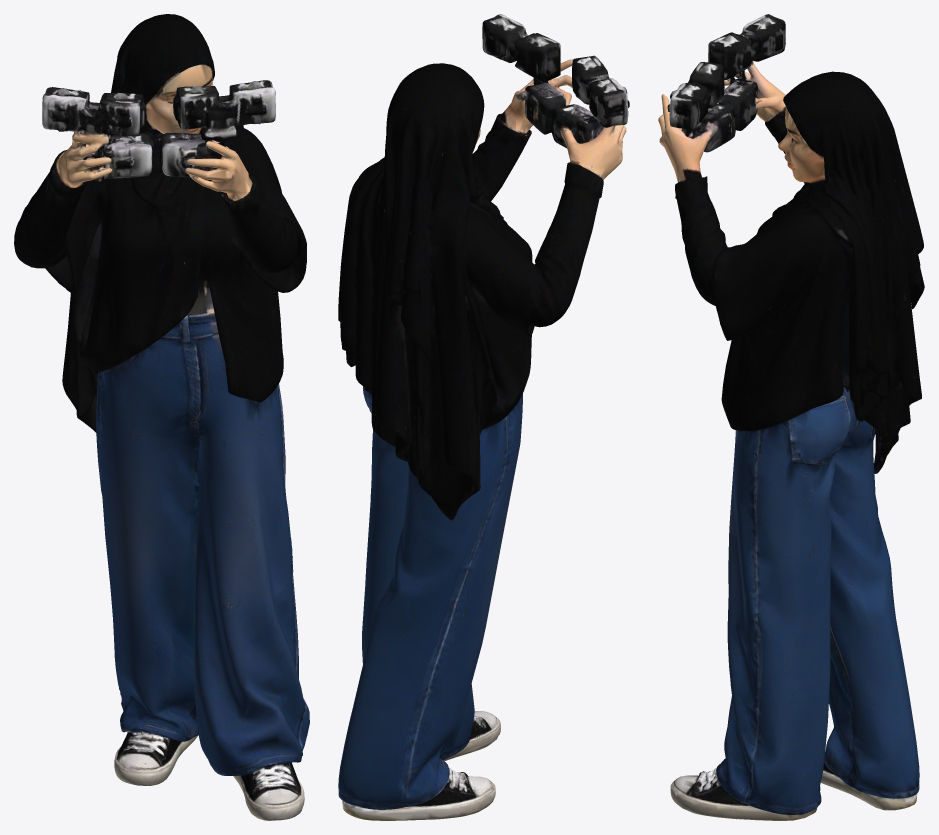
File: 3D_HERO.glb
3 views of the same model, side by side, from view 1: azimuth 30°, elevation 25°; view 2: azimuth 150°, elevation 25°; view 3: azimuth 270°, elevation 25° (orthographic). The views are drawn at different scales.
Bounding box in the file's own units: 0.6938 × 1.9 × 0.6442.
1 material, 1 textured.
